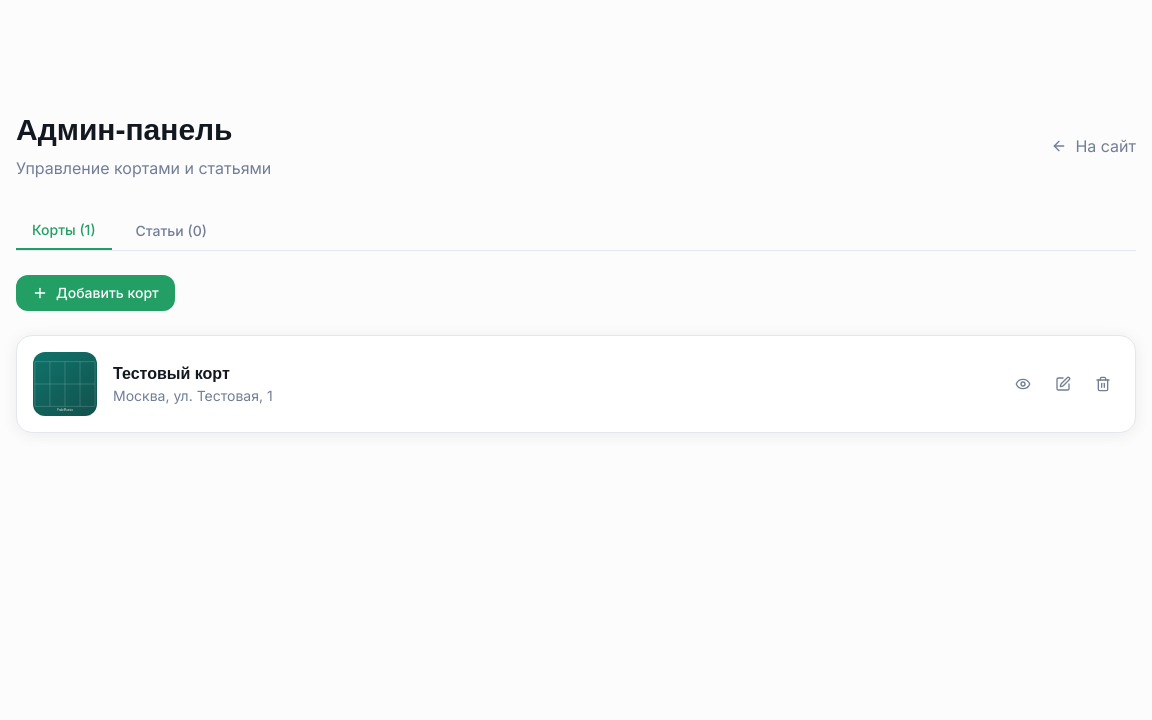
AdminClient — формы добавления/редактирования › переключает вкладку и открывает форму статьи
Expected: the button "Добавить корт" is shown, [16,275,175,311]
Click the button "Статьи (0)".
click(171, 231)  # box [120,212,223,250]
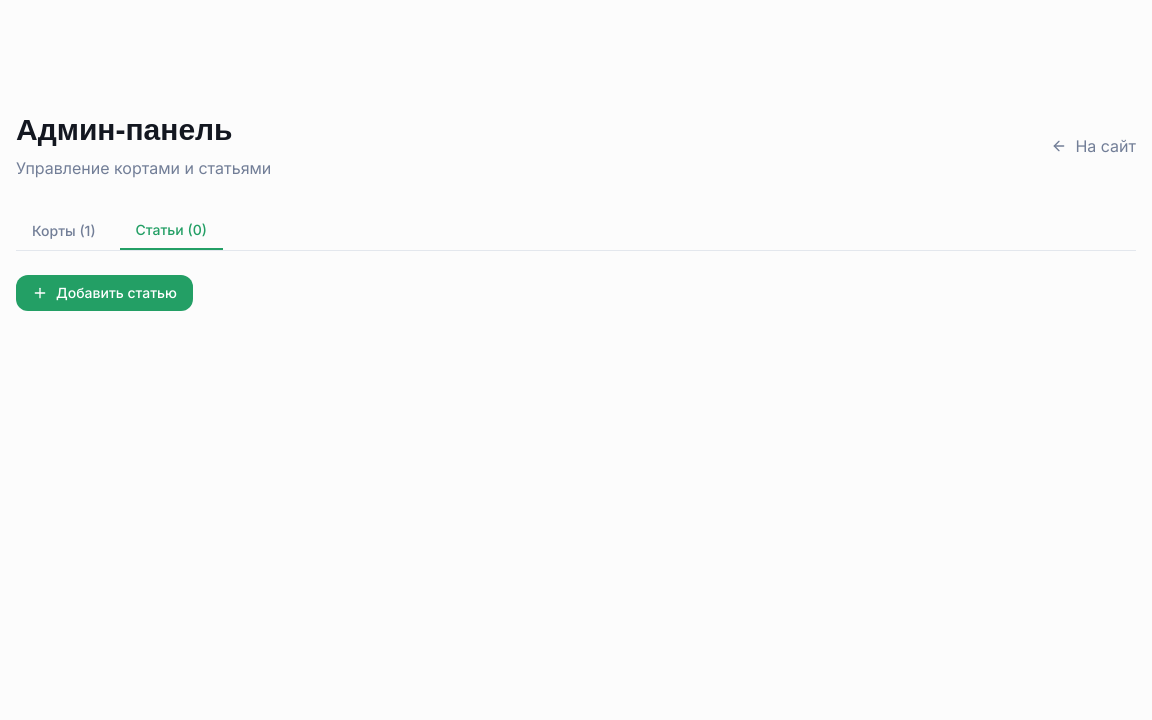
Click the button "Добавить статью".
click(104, 293)  # box [16,275,193,311]
(page scrolled)
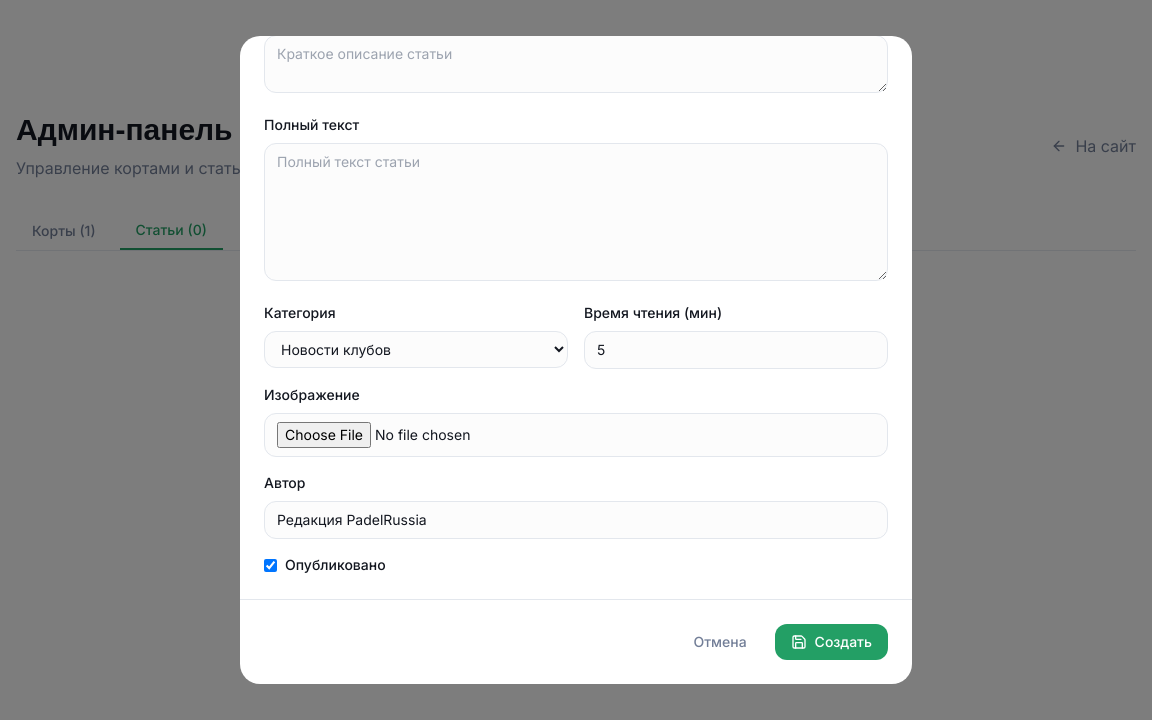
Expected: the text box with placeholder "Краткое описание статьи" is shown, [264,36,888,93]
Expected: the text box with placeholder "Полный текст статьи" is shown, [264,143,888,281]
Expected: the text "Опубликовано" is shown, [285,555,386,575]
